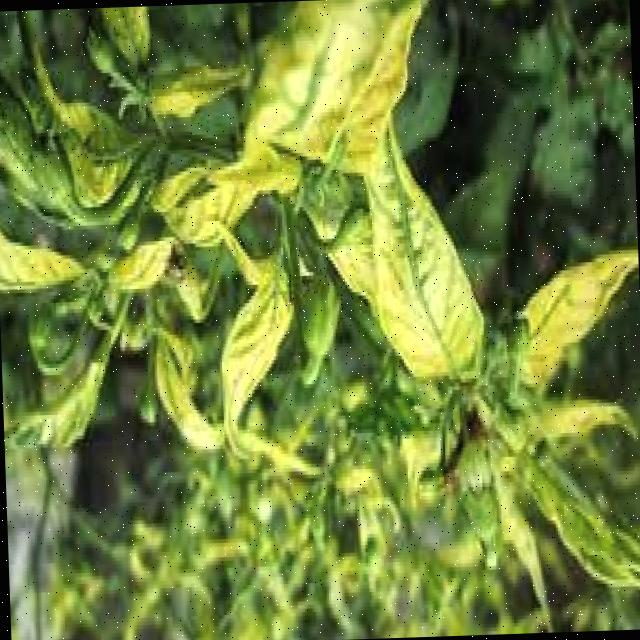yellow: (99, 0, 640, 570)
